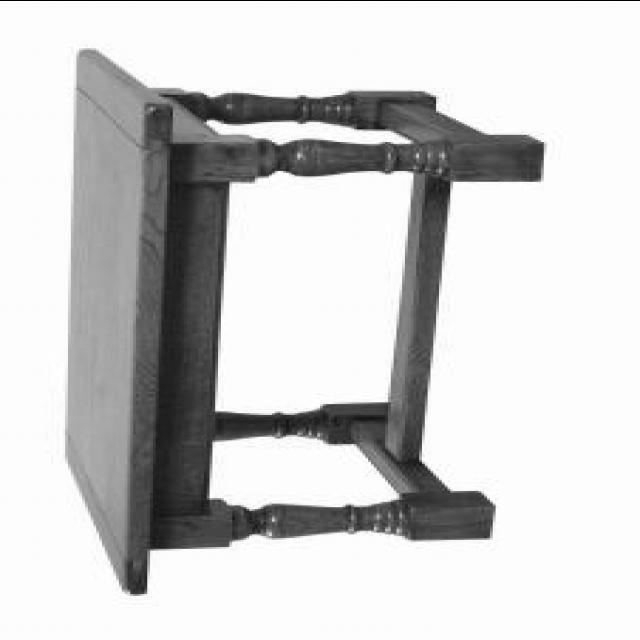table: (64, 37, 548, 595)
